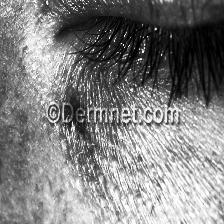Benign Marking or Mole: (61, 100, 89, 136)
